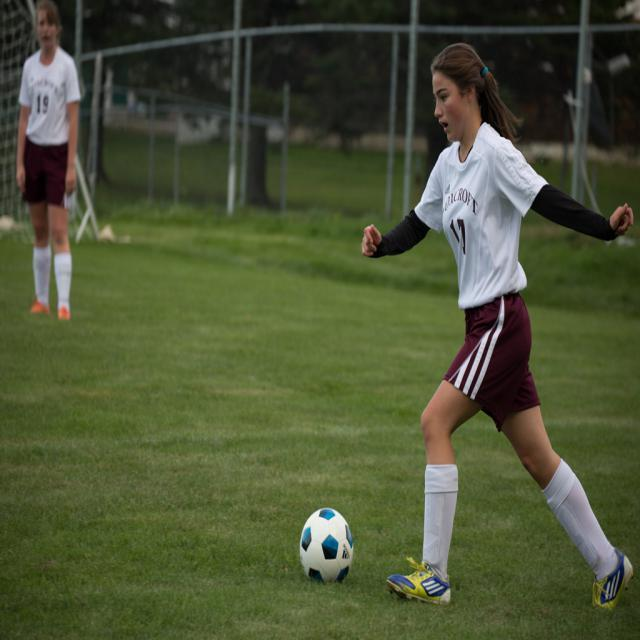football: (290, 500, 370, 603)
